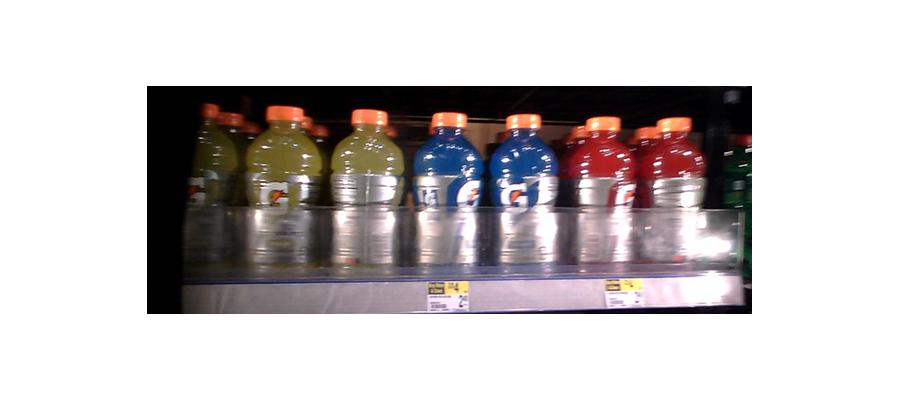bottle: (243, 104, 320, 279), (326, 103, 403, 277), (411, 107, 483, 280), (490, 111, 557, 277), (566, 112, 634, 273), (635, 112, 704, 270), (186, 101, 239, 274)
